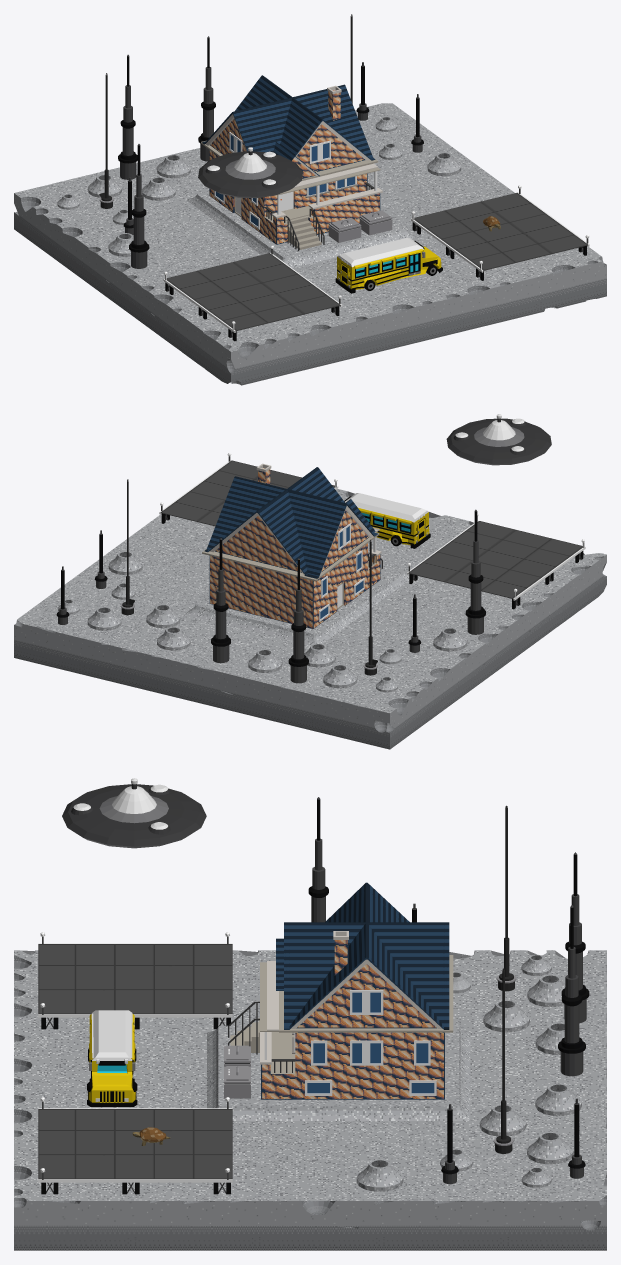
3 renders of one model, top to bottom at view 1: azimuth 30°, elevation 25°; view 2: azimuth 150°, elevation 25°; view 3: azimuth 270°, elevation 25°, orthographic. The views are drawn at different scales.
Parts seen in each view (by area): view 1: Cube.027, Cube.430, Cube.025, Cube.026, OBJRANDOM_UFO, Cube.028, VEHICLES_SCHOOL_BUS, Cylinder.021, Cylinder.020, Cylinder.017, Cube.029, Cube.030 (+5 smaller); view 2: Cube.027, Cube.430, Cube.025, OBJRANDOM_UFO, Cube.028, Cube.026, VEHICLES_SCHOOL_BUS, Cylinder.021, Cylinder.017, Cylinder.020, Cylinder.025, Cylinder.028 (+8 smaller); view 3: Cube.027, Cube.430, Cube.026, Cube.025, Cube.028, OBJRANDOM_UFO, VEHICLES_SCHOOL_BUS, Cylinder.017, Cylinder.020, Cylinder.021, Cylinder.033, Cylinder.031 (+10 smaller).
Boxes of the visible parts, <box> form: Cube.027: <box>14,103,606,385</box>; Cube.430: <box>201,75,382,251</box>; Cube.025: <box>163,245,342,341</box>; Cube.026: <box>411,185,589,280</box>; OBJRANDOM_UFO: <box>198,147,302,198</box>; Cube.028: <box>187,191,414,267</box>; VEHICLES_SCHOOL_BUS: <box>335,237,442,293</box>; Cylinder.021: <box>129,144,149,268</box>; Cylinder.020: <box>118,54,137,179</box>; Cylinder.017: <box>198,36,215,161</box>; Cube.029: <box>328,218,361,242</box>; Cube.030: <box>359,210,392,235</box>; Cube.027: <box>14,489,606,749</box>; Cube.430: <box>202,463,382,628</box>; Cube.025: <box>407,513,585,609</box>; OBJRANDOM_UFO: <box>446,414,551,465</box>; Cube.028: <box>185,565,409,645</box>; Cube.026: <box>159,453,338,526</box>; VEHICLES_SCHOOL_BUS: <box>344,493,430,548</box>; Cylinder.021: <box>465,509,485,634</box>; Cylinder.017: <box>211,538,230,663</box>; Cylinder.020: <box>288,558,308,683</box>; Cylinder.025: <box>433,627,467,651</box>; Cylinder.028: <box>323,664,357,688</box>; Cube.027: <box>14,950,606,1250</box>; Cube.430: <box>228,882,453,1099</box>; Cube.026: <box>38,1097,232,1194</box>; Cube.025: <box>38,932,232,1029</box>; Cube.028: <box>207,1025,470,1120</box>; OBJRANDOM_UFO: <box>62,778,206,848</box>; VEHICLES_SCHOOL_BUS: <box>87,1010,137,1106</box>; Cylinder.017: <box>558,905,585,1076</box>; Cylinder.020: <box>561,852,589,1023</box>; Cylinder.021: <box>308,797,328,922</box>; Cylinder.033: <box>356,1159,403,1191</box>; Cylinder.031: <box>527,1132,573,1164</box>.
Bounding box in the file's own units: 4000 × 2062 × 4000.
Materials: 40 (6 with a texture image).
